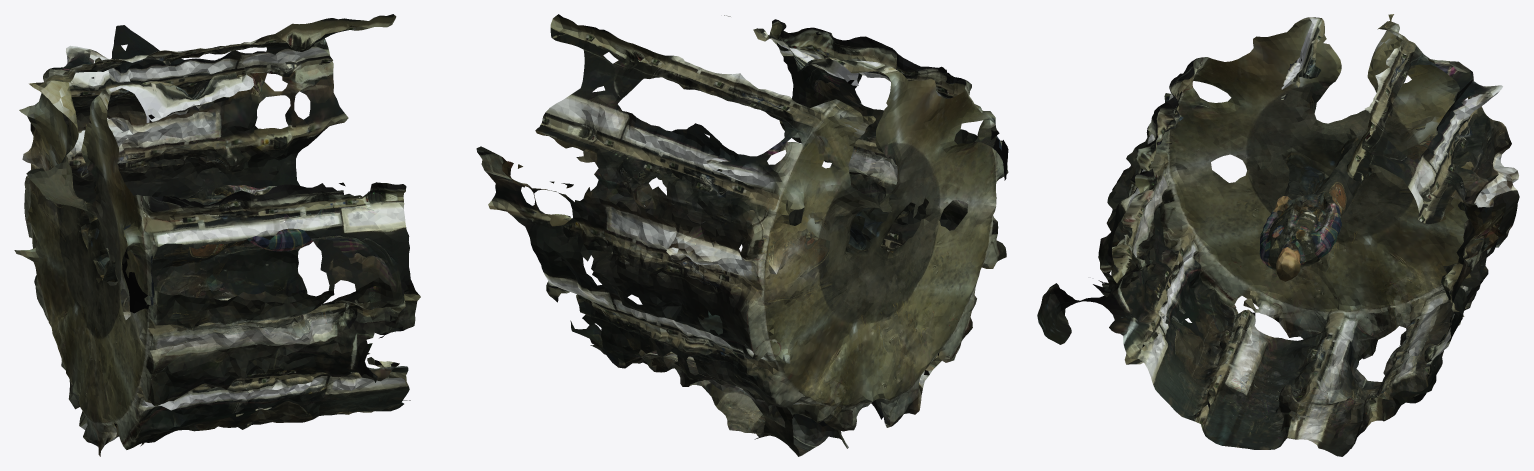
The model's file is texturedMesh.obj.
The picture shows the model from 3 angles, left to right: view 1: azimuth 30°, elevation 25°; view 2: azimuth 150°, elevation 25°; view 3: azimuth 270°, elevation 25°; orthographic projection. The views are drawn at different scales.
Visible parts, largest first — view 1: TexturedMesh; view 2: TexturedMesh; view 3: TexturedMesh.
Part boxes in pixels (x1,y1,x2,y2): TexturedMesh: (14, 14, 420, 456); TexturedMesh: (476, 14, 1008, 456); TexturedMesh: (1037, 14, 1519, 456).
Size of the model in its own units: 6.47 by 6.29 by 7.87.
20 materials, 20 textured.
